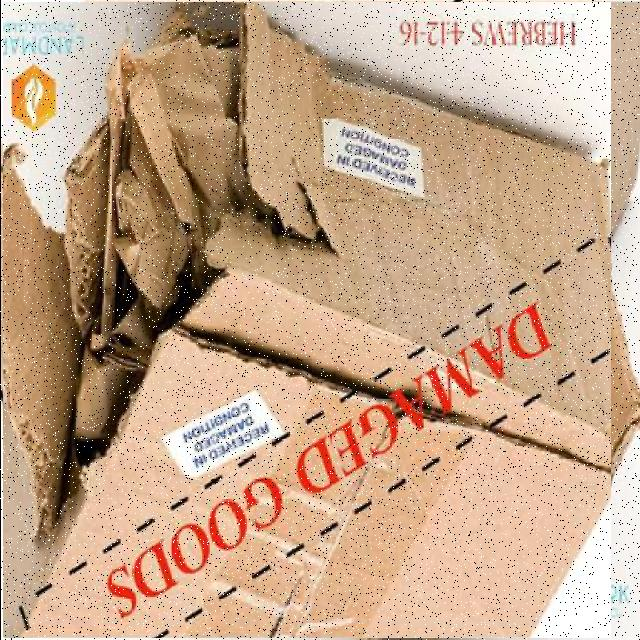defect: (2, 2, 610, 638)
